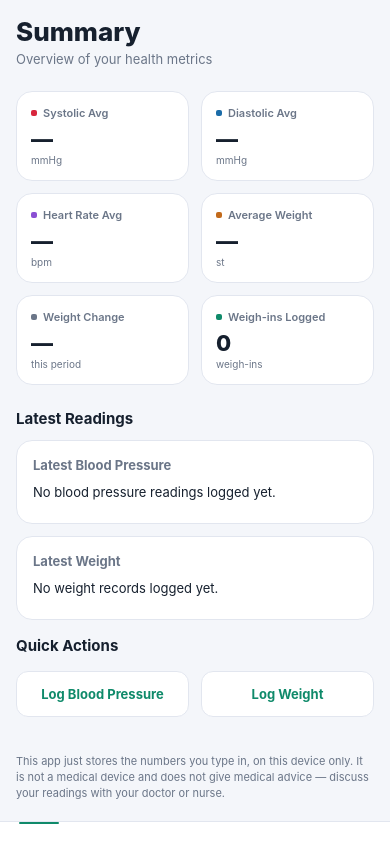
Scenario: App › schedules a daily reminder when the switch is turned on
Check: the text "Summary" is shown, box [16, 16, 141, 47]
Click the tab named "Log": [117, 833] box [78, 822, 156, 843]
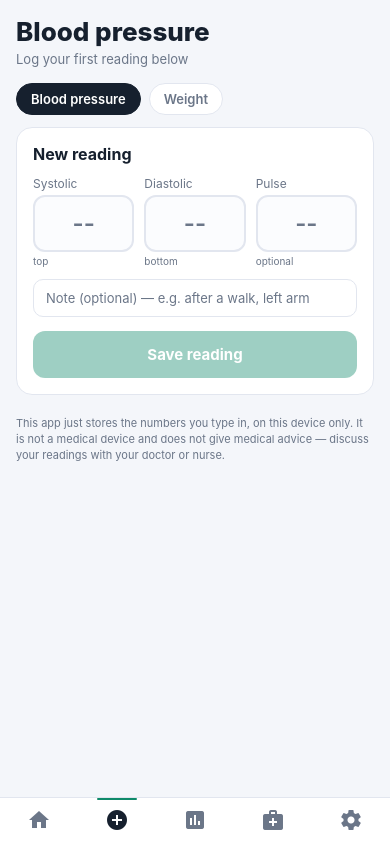
Check: the text "New reading" is shown, box [33, 144, 132, 164]
Click the tab named "Settings": [351, 820] box [339, 808, 363, 832]
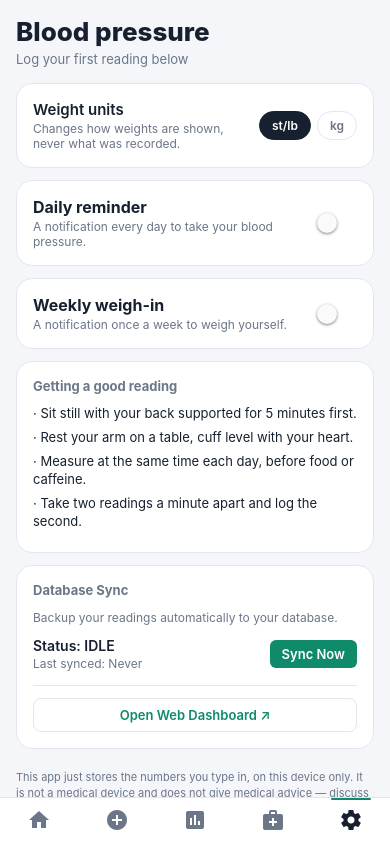
Click the switch named "Daily reminder": [337, 223] box [317, 213, 357, 233]
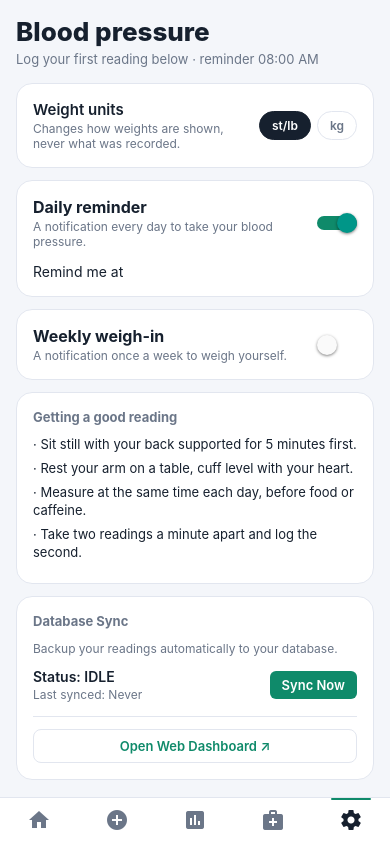
Check: the text "Log your first reading below · reminder 08:00 AM" is shown, box [16, 51, 319, 67]
